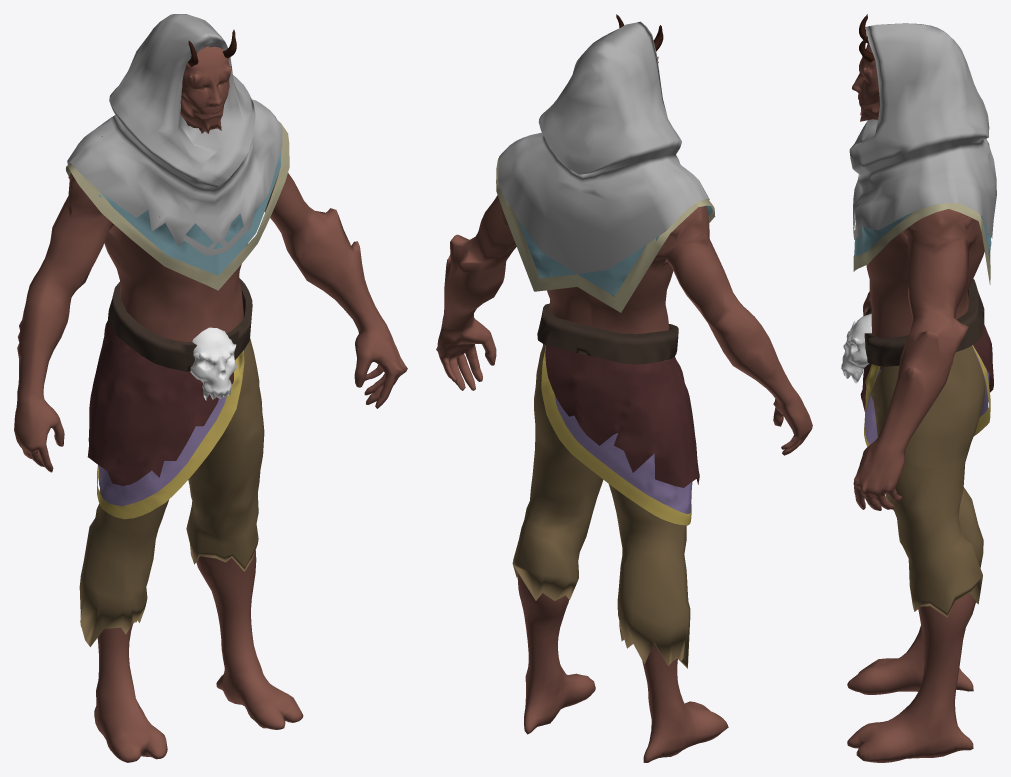
The model's file is pm_mod_fullcharacter_low5.fbx.
The picture shows the model from 3 angles, left to right: view 1: azimuth 30°, elevation 25°; view 2: azimuth 150°, elevation 25°; view 3: azimuth 270°, elevation 25°; orthographic projection. The views are drawn at different scales.
Parts seen in each view (by area): view 1: polySurface1731; view 2: polySurface1731; view 3: polySurface1731.
Boxes of the visible parts, x1,y1,x2,y2 form: polySurface1731: [14, 14, 407, 762]; polySurface1731: [436, 14, 812, 762]; polySurface1731: [841, 14, 996, 762].
Size of the model in its own units: 107 by 190 by 38.5.
